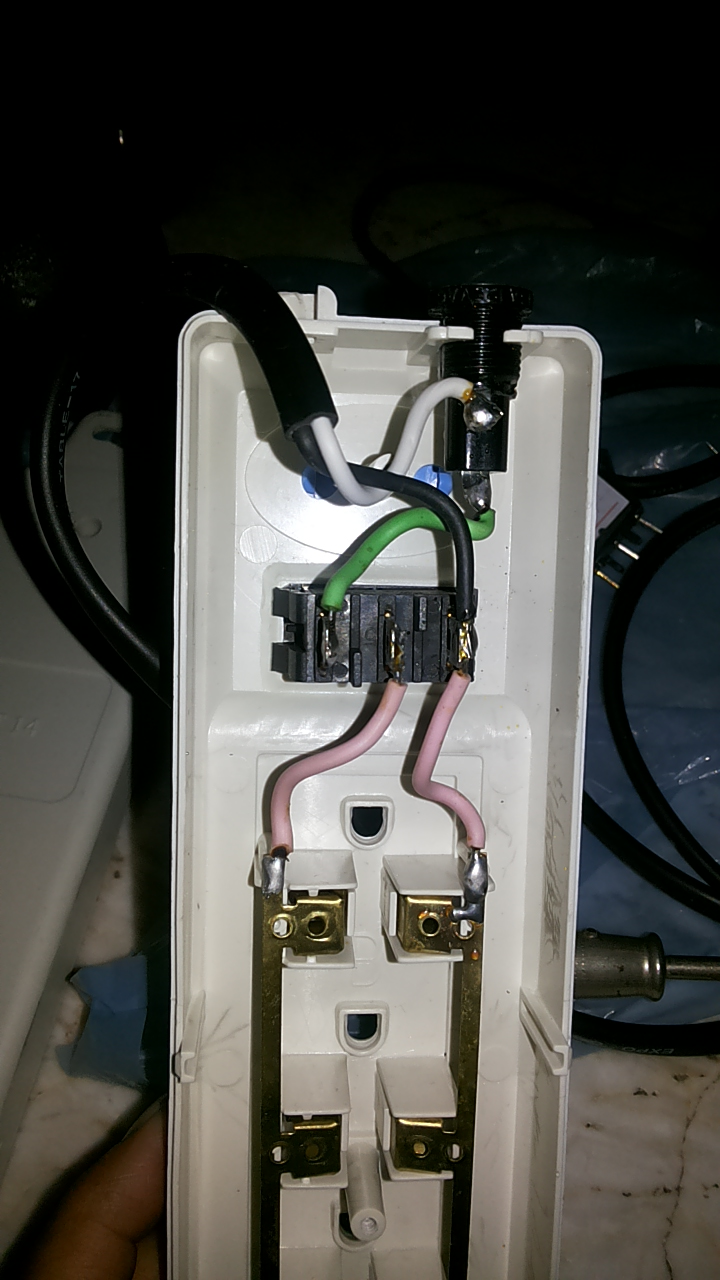Three_eye_plug: (129, 263, 610, 1280)
